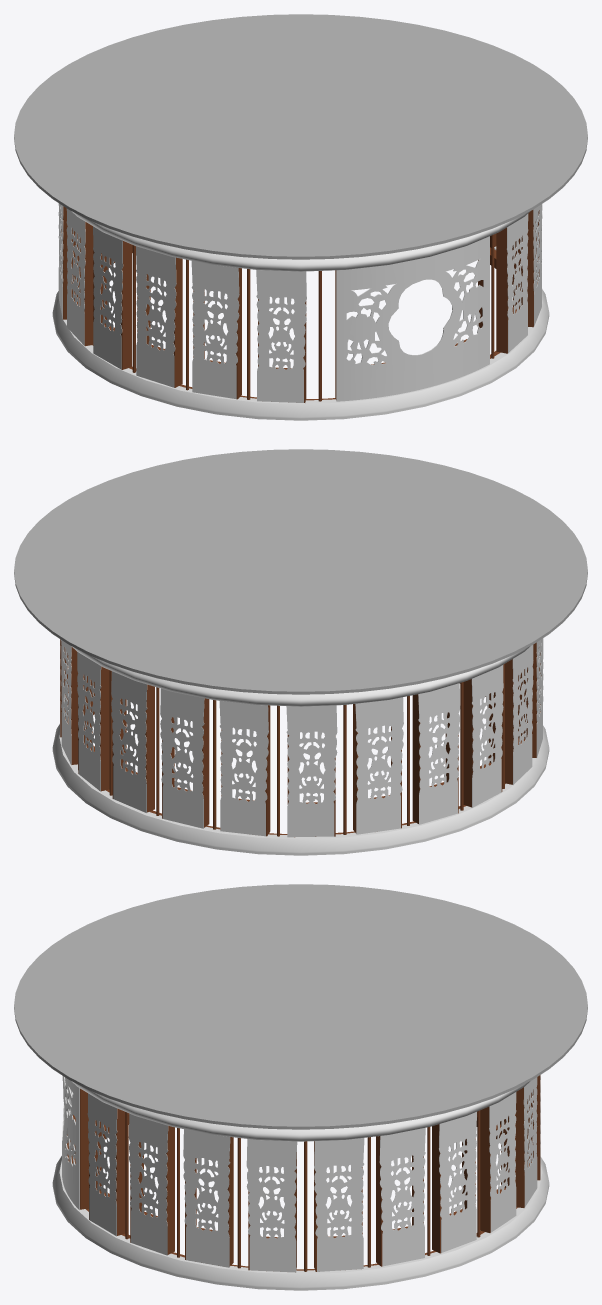
Rendered from Khong.glb.
3 views of the same model, one above another, from view 1: azimuth 30°, elevation 25°; view 2: azimuth 150°, elevation 25°; view 3: azimuth 270°, elevation 25° (orthographic).
Visible parts, largest first — view 1: Tube05, Box01, Tube04, Shape22, Shape21, Shape20, Tube01, Shape19, Shape12, Shape18, Rectangle12, Rectangle19 (+6 smaller); view 2: Tube05, Tube04, Shape15, Shape14, Shape16, Shape03, Shape17, Tube01, Shape04, Shape18, Shape05, Shape19 (+12 smaller); view 3: Tube05, Tube04, Shape09, Shape08, Shape10, Shape07, Shape11, Tube01, Shape06, Shape12, Shape05, Box01 (+9 smaller).
Part boxes in pixels (x1,y1,x2,y2): Tube05: [14, 14, 587, 259]; Box01: [336, 236, 489, 401]; Tube04: [52, 246, 549, 420]; Shape22: [256, 270, 306, 402]; Shape21: [191, 261, 239, 399]; Shape20: [135, 246, 176, 387]; Tube01: [71, 211, 530, 271]; Shape19: [93, 226, 123, 369]; Shape12: [506, 214, 528, 353]; Shape18: [66, 208, 85, 345]; Rectangle12: [496, 227, 522, 353]; Rectangle19: [94, 241, 131, 369]; Tube05: [14, 449, 587, 694]; Tube04: [52, 724, 549, 855]; Shape15: [286, 705, 337, 837]; Shape14: [219, 700, 268, 836]; Shape16: [355, 697, 403, 834]; Shape03: [160, 688, 204, 828]; Shape17: [418, 683, 460, 824]; Tube01: [71, 646, 530, 706]; Shape04: [111, 671, 147, 812]; Shape18: [471, 665, 503, 807]; Shape05: [77, 652, 101, 791]; Shape19: [512, 645, 533, 784]; Tube05: [14, 884, 587, 1129]; Tube04: [52, 1156, 549, 1290]; Shape09: [246, 1139, 297, 1272]; Shape08: [314, 1137, 364, 1271]; Shape10: [183, 1129, 230, 1267]; Shape07: [379, 1127, 425, 1266]; Shape11: [128, 1113, 168, 1255]; Tube01: [71, 1081, 530, 1141]; Shape06: [438, 1112, 476, 1252]; Shape12: [87, 1093, 117, 1236]; Shape05: [489, 1092, 516, 1232]; Box01: [62, 1075, 79, 1210].
Bounding box in the file's own units: 71.7 × 24.84 × 71.7.
